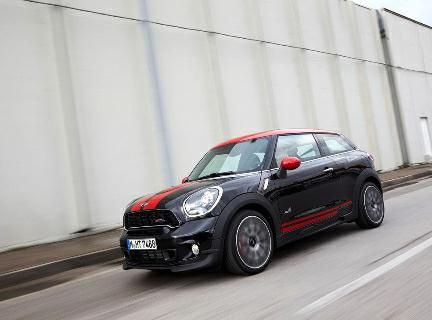MINI-JCWPACEMAN: (122, 127, 394, 279)
